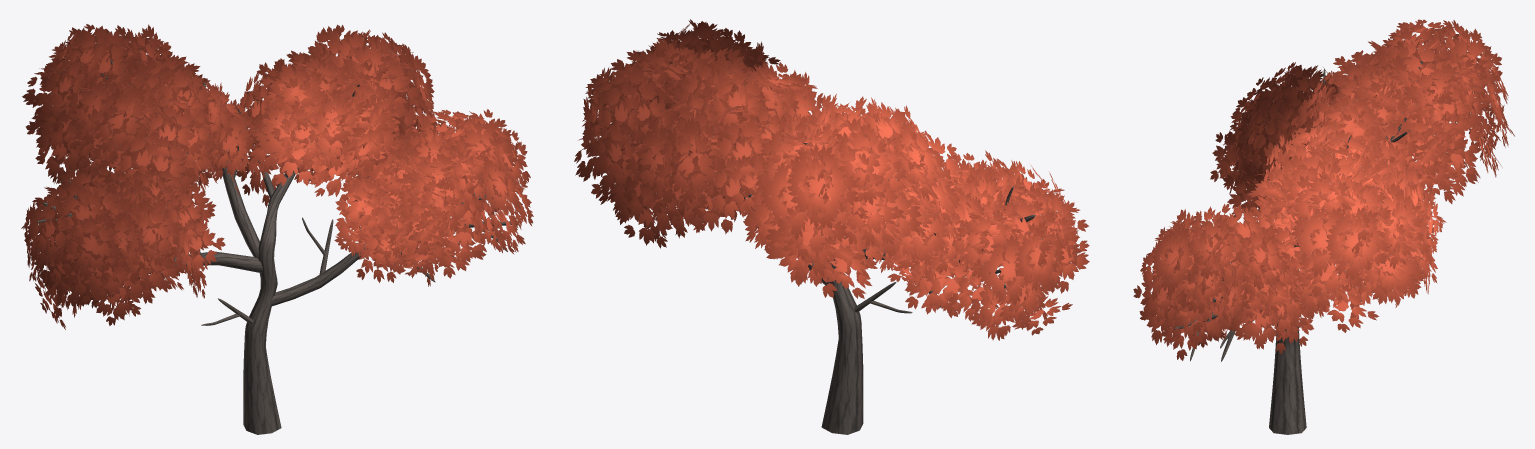
File: quaternius-ultimate-stylized-nature-maple-tree-3.glb
3 renders of one model, left to right at view 1: azimuth 30°, elevation 25°; view 2: azimuth 150°, elevation 25°; view 3: azimuth 270°, elevation 25°, orthographic. The views are drawn at different scales.
Parts seen in each view (by area): view 1: MapleTree_3; view 2: MapleTree_3; view 3: MapleTree_3.
Boxes of the visible parts, x1=… form: MapleTree_3: x1=21, y1=24, x2=533, y2=434; MapleTree_3: x1=574, y1=19, x2=1089, y2=434; MapleTree_3: x1=1133, y1=19, x2=1514, y2=434.
Bounding box in the file's own units: 8.98 × 6.99 × 6.61.
2 materials, 2 textured.
